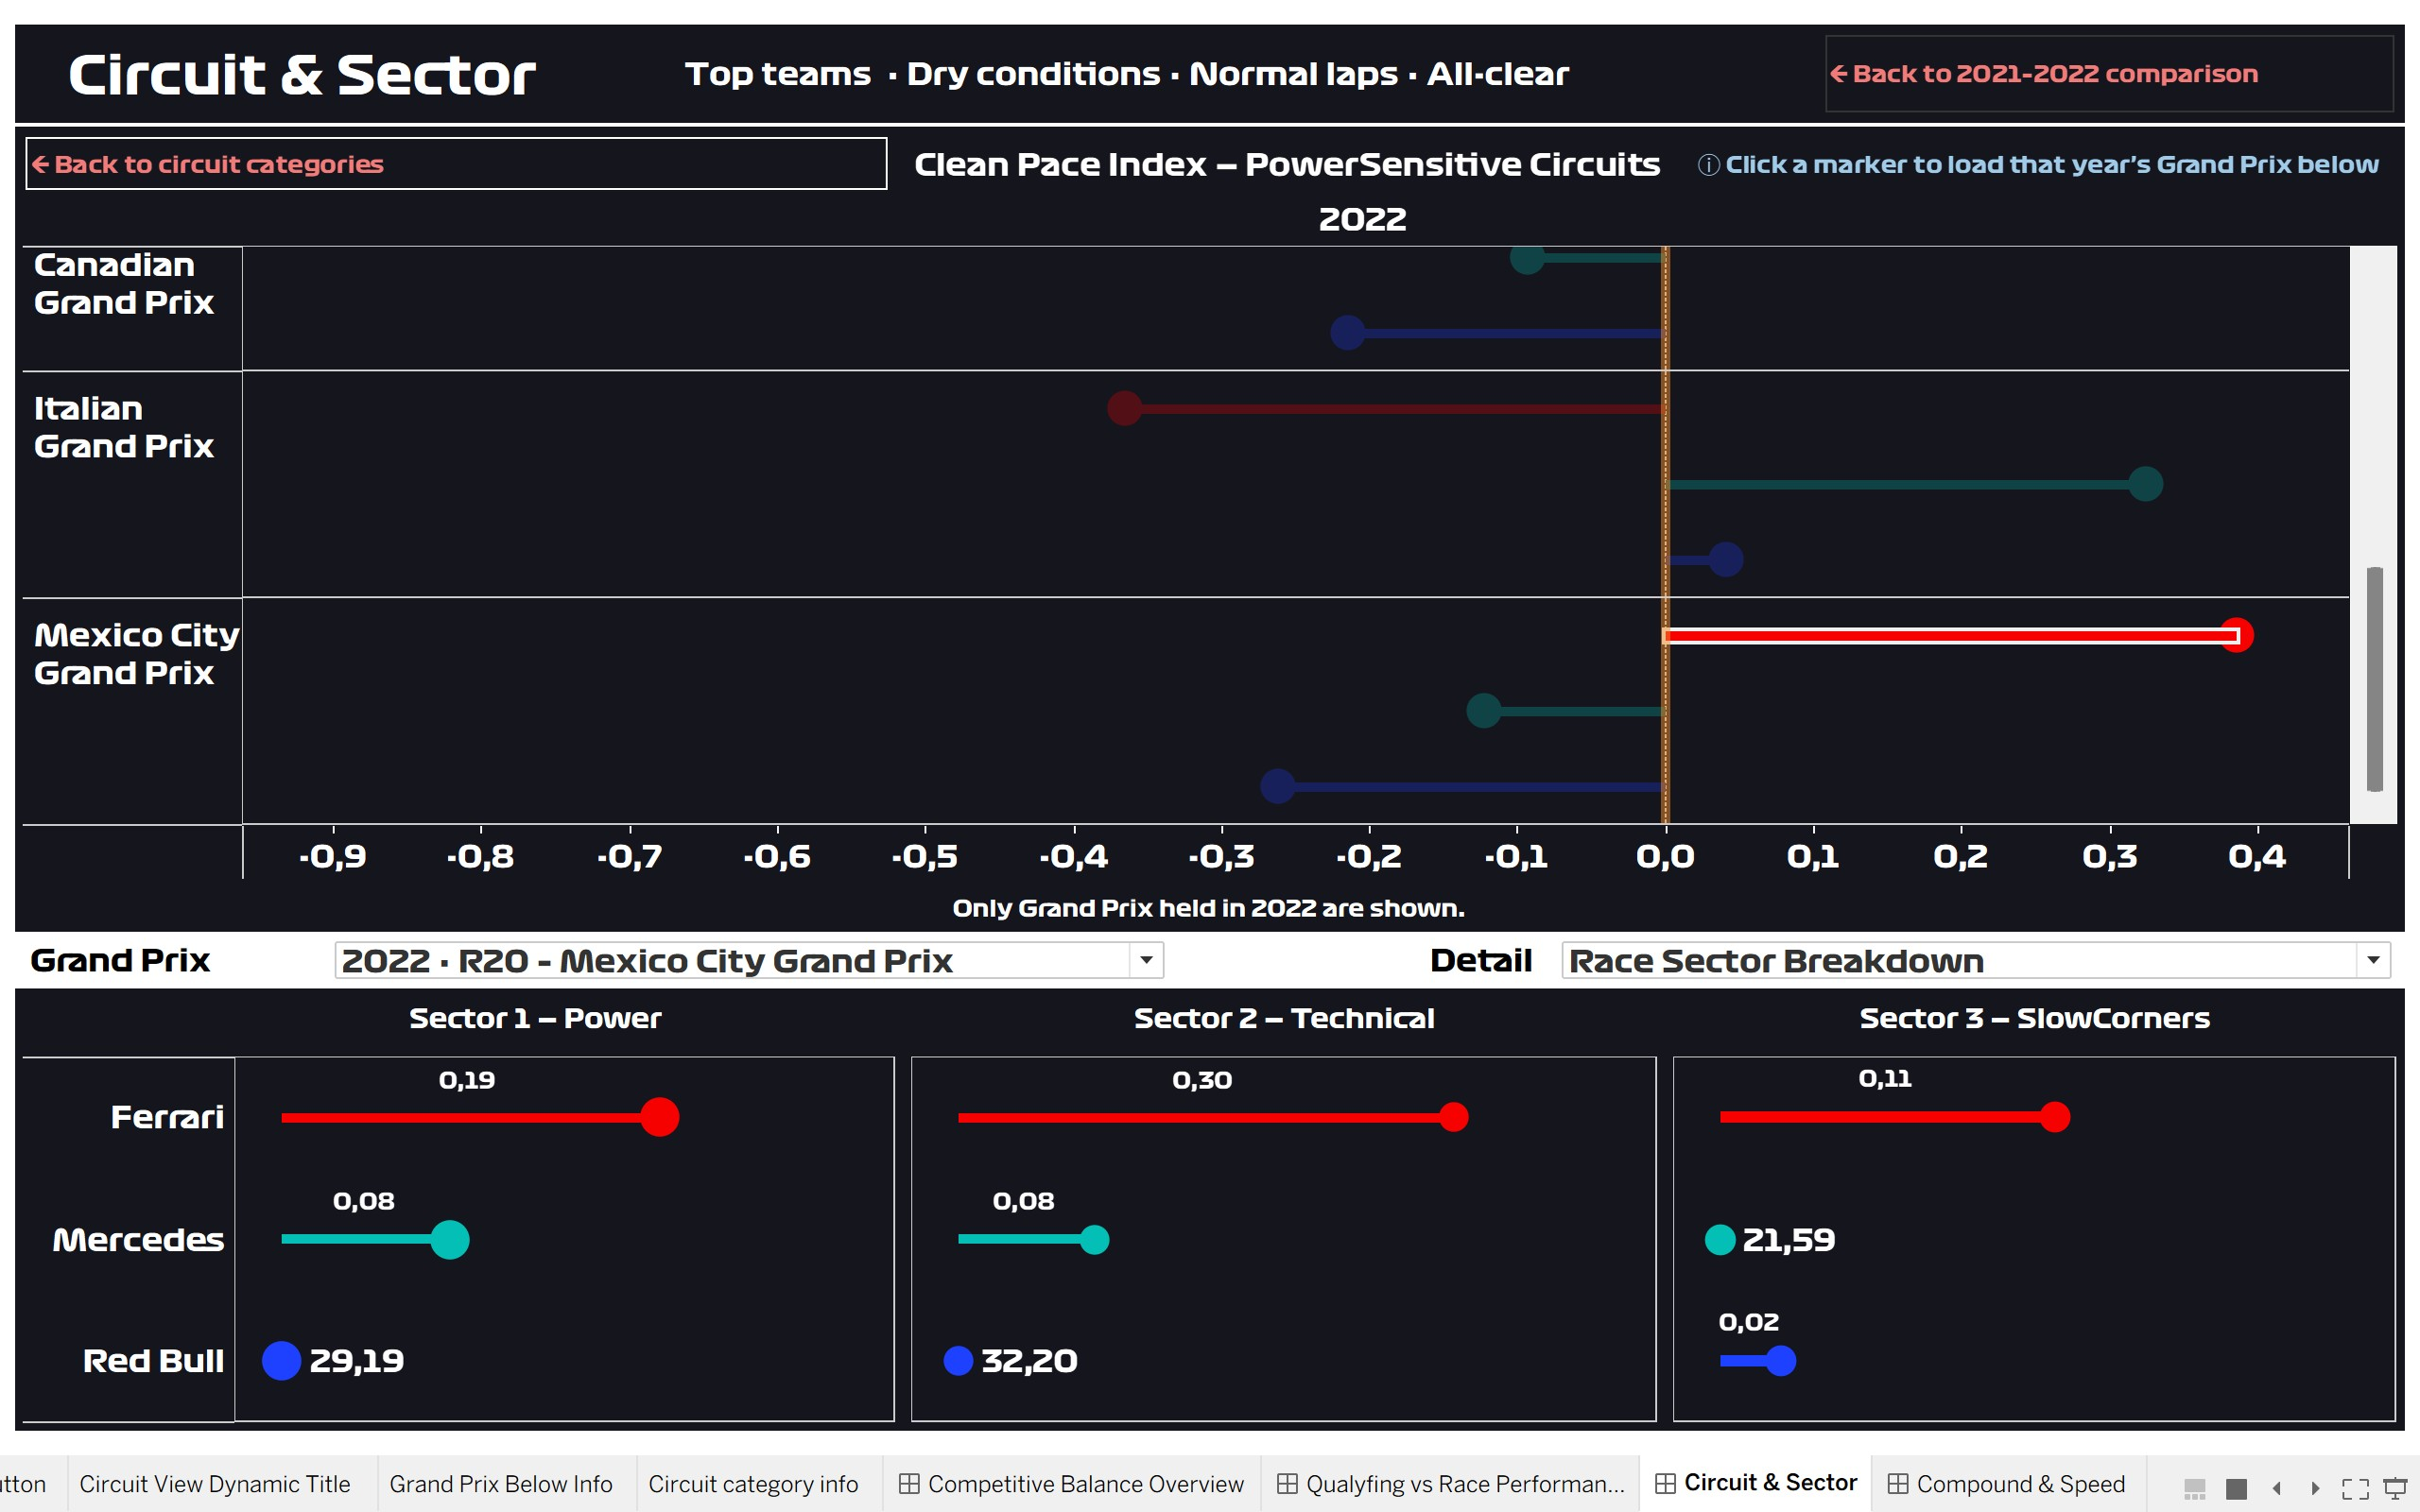

The page's visual inventory and layout, read from the dashboard file:
{"tool":"tableau","page":{"name":"Circuit & Sector","canvas":[1280,760],"ordinal":0},"visuals":[{"type":"text","box":[8,8,346,52]},{"type":"text","box":[354,8,592,52]},{"type":"worksheet","title":"Season Info Message","mark":"Automatic","box":[946,8,326,52]},{"type":"worksheet","title":"Season Back Button","mark":"Automatic","box":[960,8,312,52]},{"type":"worksheet","title":"Circuit category info","mark":"Automatic","box":[8,62,524,39]},{"type":"worksheet","title":"Back to Circuit Categories","mark":"Text","box":[8,62,467,39]},{"type":"worksheet","title":"Circuit View Dynamic Title","mark":"Automatic","box":[532,62,415,39]},{"type":"worksheet","title":"Grand Prix Below Info","mark":"Automatic","box":[890,62,382,39]},{"type":"blank","box":[8,101,161,20]},{"type":"worksheet","title":"Season Year Selector","mark":"Text","rows":["Calculation_1987116227198986"],"cols":["season_year"],"box":[169,101,1103,20]},{"type":"worksheet","title":"CPI — Category Overview","mark":"GanttBar","rows":["global_circuit_category","team_name"],"cols":["season_year","Calculation_2377154289201161","Calculation_2377154284285960"],"box":[8,121,1264,366.9]},{"type":"worksheet","title":"CPI — Circuit Drilldown","mark":"GanttBar","rows":["event_name","team_name"],"cols":["season_year","Calculation_2377154289201161","Calculation_2377154284285960"],"box":[8,121,1264,367]},{"type":"text","box":[8,488,162,30]},{"type":"parameter","param":"[Parameters].[Parameter 1987116235718677]","box":[170,488,453,30]},{"type":"text","box":[623,488,196,30]},{"type":"parameter","param":"[Parameters].[Parameter 3402459086753835]","box":[819,488,453,30]},{"type":"worksheet","title":"Sector 1 Fingerprint","mark":"Circle","rows":["team_name"],"cols":["season_year","Calculation_2377154473168937","Calculation_2377154461823002"],"box":[8,518,470,234]},{"type":"worksheet","title":"Quali Sector Contribution","mark":"Bar","rows":["team_name"],"cols":["season_year"],"box":[8,518,1089,234]},{"type":"worksheet","title":"Clean Race Pace Overview","mark":"GanttBar","rows":["team_name"],"cols":["Calculation_3402459075788824","Calculation_3402459075862553"],"box":[8,518,928,234]},{"type":"worksheet","title":"Sector 2 Fingerprint","mark":"Circle","rows":["team_name"],"cols":["season_year","Calculation_2377154478805036","Calculation_2377154462015515"],"box":[478,518,403,234]},{"type":"worksheet","title":"Sector 3 Fingerprint","mark":"Circle","rows":["team_name"],"cols":["season_year","Calculation_2377154482085935","Team Sector 2 Avg S (copy)_2377154462101532"],"box":[881,518,391,234]},{"type":"worksheet","title":"Clean Race Pace Overview Labels","mark":"Text","rows":["team_name"],"box":[936,518,336,234]},{"type":"worksheet","title":"Qualifying Result KPI","mark":"Text","rows":["team_name"],"box":[1097,518,175,202]},{"type":"blank","box":[1097,720,175,32]}]}

Visuals, with their boxes on the page's 1280x760 design canvas (x1, y1, x2, y2). These are canvas units, not pixel positions in the 2420x1512 screenshot, which may show the page scaled, cropped or inside an application window:
text: select_region(8, 8, 354, 60)
text: select_region(354, 8, 946, 60)
"Season Info Message" worksheet: select_region(946, 8, 1272, 60)
"Season Back Button" worksheet: select_region(960, 8, 1272, 60)
"Circuit category info" worksheet: select_region(8, 62, 532, 101)
"Back to Circuit Categories" worksheet (Text marks): select_region(8, 62, 475, 101)
"Circuit View Dynamic Title" worksheet: select_region(532, 62, 947, 101)
"Grand Prix Below Info" worksheet: select_region(890, 62, 1272, 101)
blank: select_region(8, 101, 169, 121)
"Season Year Selector" worksheet (Text marks): select_region(169, 101, 1272, 121)
"CPI — Category Overview" worksheet (GanttBar marks): select_region(8, 121, 1272, 488)
"CPI — Circuit Drilldown" worksheet (GanttBar marks): select_region(8, 121, 1272, 488)
text: select_region(8, 488, 170, 518)
parameter: select_region(170, 488, 623, 518)
text: select_region(623, 488, 819, 518)
parameter: select_region(819, 488, 1272, 518)
"Sector 1 Fingerprint" worksheet (Circle marks): select_region(8, 518, 478, 752)
"Quali Sector Contribution" worksheet (Bar marks): select_region(8, 518, 1097, 752)
"Clean Race Pace Overview" worksheet (GanttBar marks): select_region(8, 518, 936, 752)
"Sector 2 Fingerprint" worksheet (Circle marks): select_region(478, 518, 881, 752)
"Sector 3 Fingerprint" worksheet (Circle marks): select_region(881, 518, 1272, 752)
"Clean Race Pace Overview Labels" worksheet (Text marks): select_region(936, 518, 1272, 752)
"Qualifying Result KPI" worksheet (Text marks): select_region(1097, 518, 1272, 720)
blank: select_region(1097, 720, 1272, 752)
